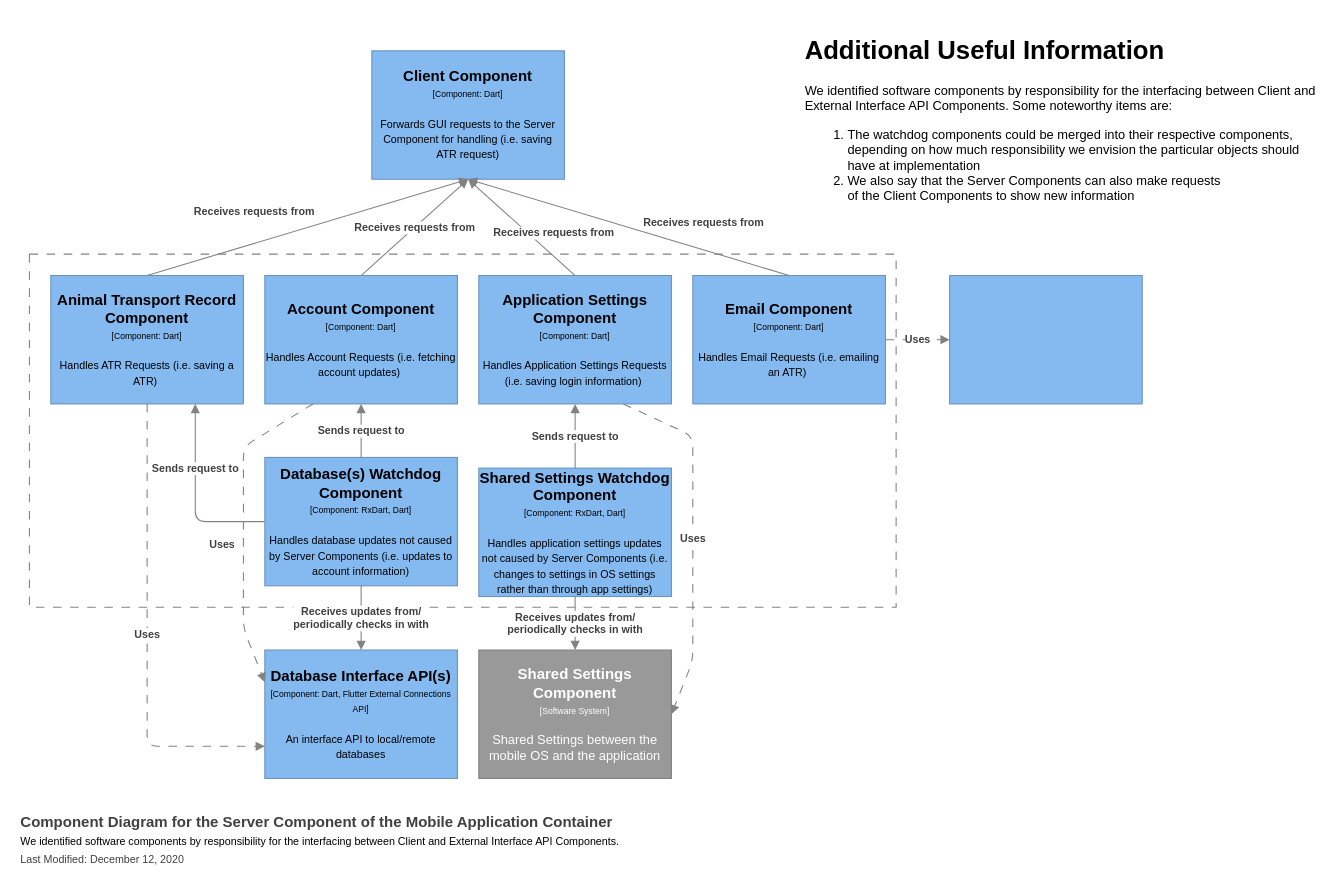
The diagram is 1342 pixels wide and 885 high, and some of its shapes have lost their labels. The shapes that lost their labels are listed below. From the top down, each one's box as (x1, y1, x2, y2) in pixels, then its label:
(949, 274, 1142, 404): Email Interface API [Component: Dart, SMTP] An interface API to the Email System
(28, 253, 896, 607): Server Component [Component]
